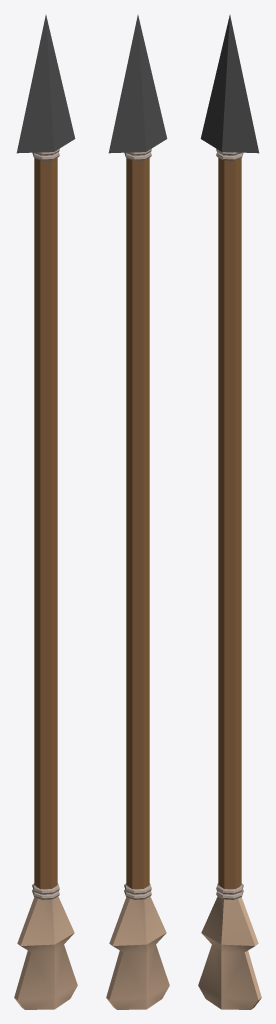
The model's file is Arrow_01.fbx.
3 views of the same model, side by side, from view 1: azimuth 30°, elevation 25°; view 2: azimuth 210°, elevation 25°; view 3: azimuth 330°, elevation 25° (orthographic).
Parts seen in each view (by area): view 1: Arrow_01; view 2: Arrow_01; view 3: Arrow_01.
Part boxes in pixels (x1=…): Arrow_01: x1=14, y1=15, x2=77, y2=1009; Arrow_01: x1=106, y1=15, x2=169, y2=1009; Arrow_01: x1=198, y1=15, x2=261, y2=1009.
Size of the model in its own units: 3.83 by 59.92 by 1.91.
